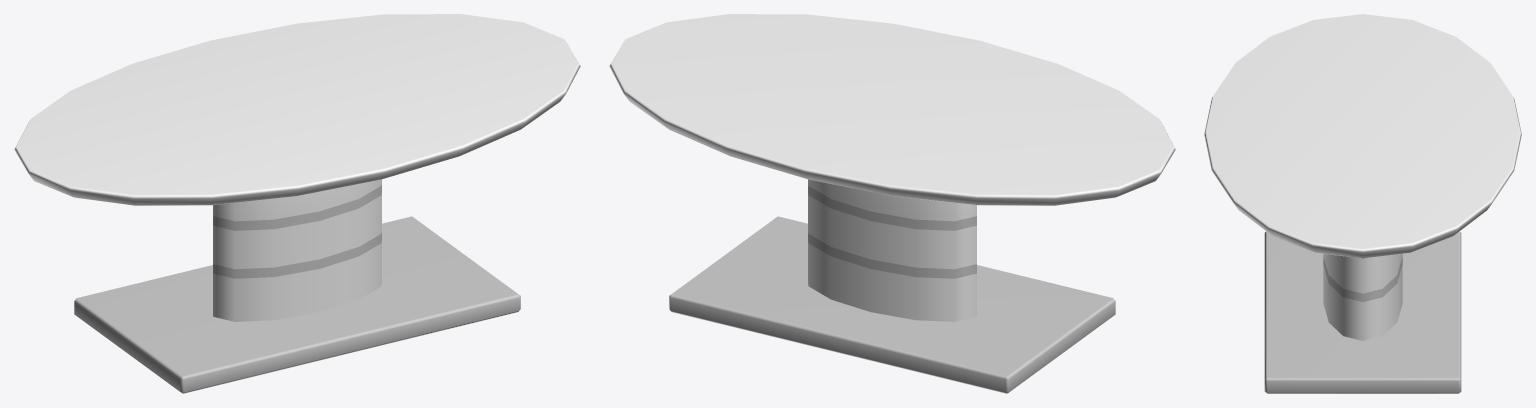
File: kitchen_table_013.fbx
The picture shows the model from 3 angles, left to right: view 1: azimuth 30°, elevation 25°; view 2: azimuth 150°, elevation 25°; view 3: azimuth 270°, elevation 25°; orthographic projection. The views are drawn at different scales.
Visible parts, largest first — view 1: kitchen_table_013; view 2: kitchen_table_013; view 3: kitchen_table_013.
Boxes of the visible parts, x1=… form: kitchen_table_013: x1=14, y1=14, x2=580, y2=393; kitchen_table_013: x1=609, y1=14, x2=1175, y2=393; kitchen_table_013: x1=1204, y1=14, x2=1521, y2=393.
Size of the model in its own units: 258 by 146 by 96.04.
